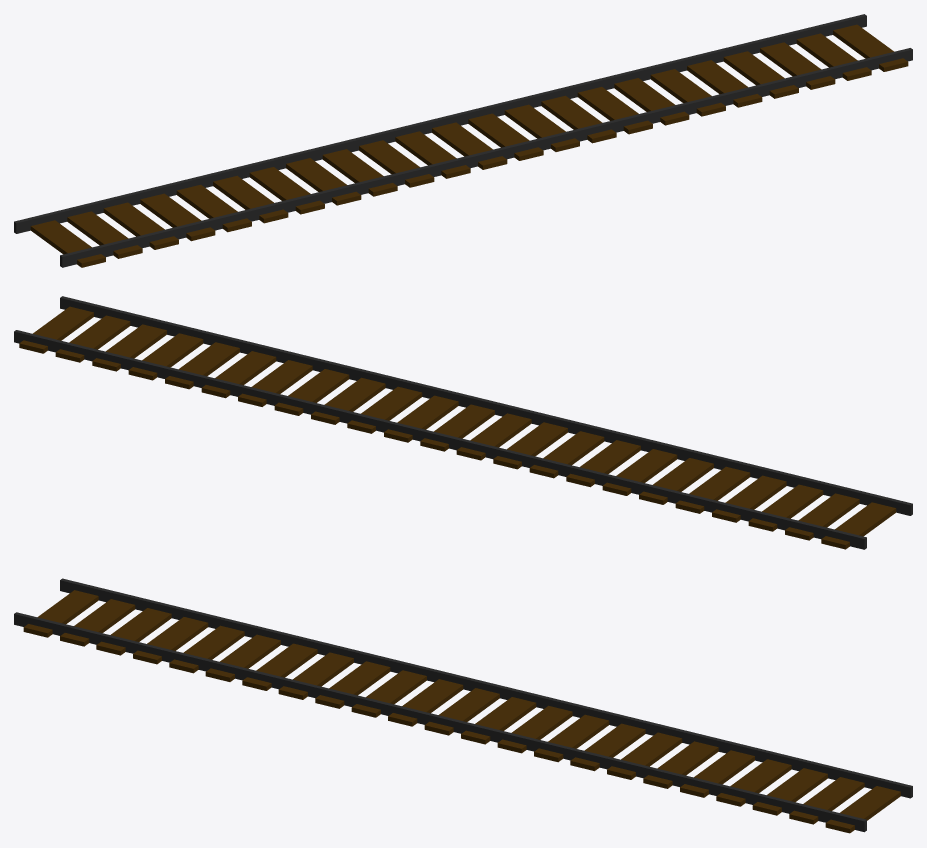
The model's file is Rail.fbx.
3 views of the same model, one above another, from view 1: azimuth 30°, elevation 25°; view 2: azimuth 150°, elevation 25°; view 3: azimuth 330°, elevation 25° (orthographic).
Parts seen in each view (by area): view 1: Cube.002, Cube.001, Cube.003; view 2: Cube.002, Cube.003, Cube.001; view 3: Cube.002, Cube.003, Cube.001.
Part boxes in pixels (left/top/right/bottom): Cube.002: left=30, top=24, right=908, bottom=267; Cube.001: left=60, top=48, right=912, bottom=267; Cube.003: left=14, top=14, right=866, bottom=233; Cube.002: left=19, top=306, right=896, bottom=549; Cube.003: left=14, top=330, right=866, bottom=549; Cube.001: left=60, top=296, right=912, bottom=515; Cube.002: left=23, top=590, right=900, bottom=833; Cube.003: left=60, top=578, right=912, bottom=798; Cube.001: left=14, top=612, right=866, bottom=832.
Bounding box in the file's own units: 1276 × 15.49 × 150.
